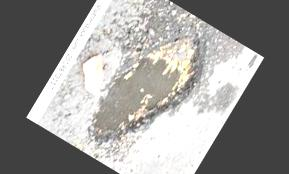Stagnant water: (58, 0, 255, 174)
